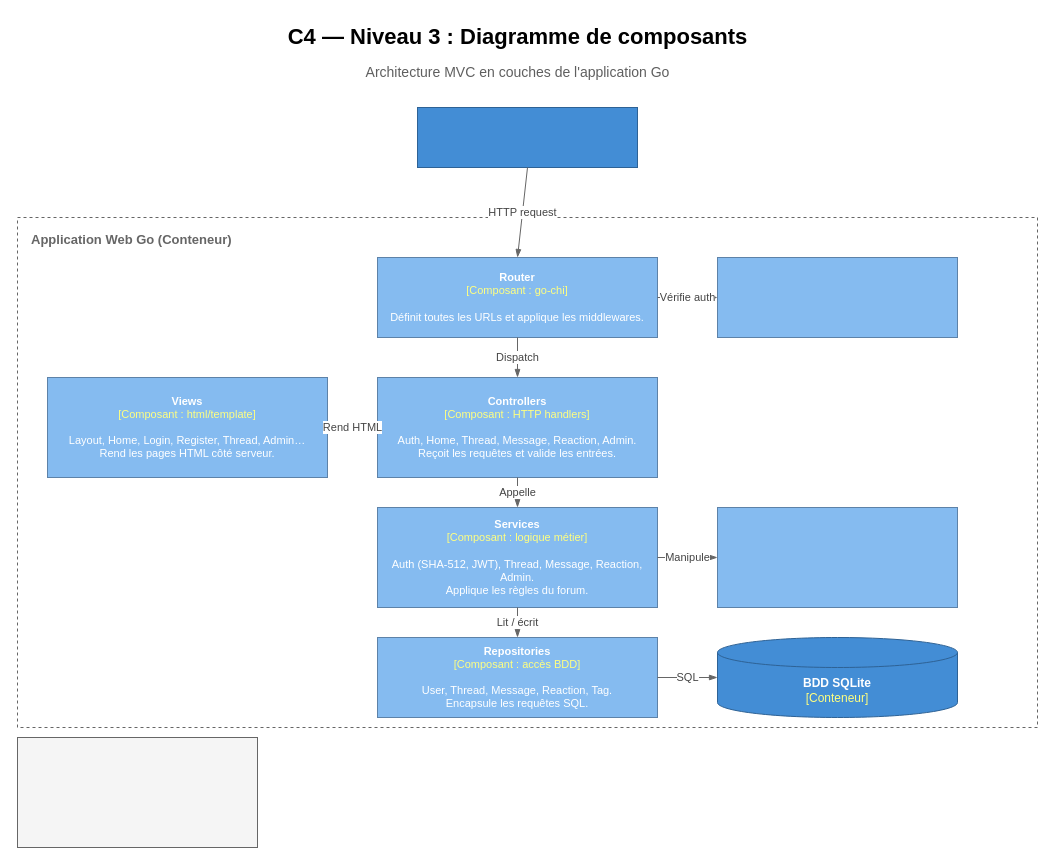
This 1055x865 diagram has some shape labels left out. Here are the shapes that lost their labels. From the top down, the box of each, then its label:
(416, 106, 638, 168): Navigateur Web [Conteneur]
(716, 256, 958, 338): Middleware JWT [Composant] Vérifie le token JWT et le rôle admin.
(716, 506, 958, 608): Models [Composant : structs Go] User, Thread, Message, Reaction, Category, Tag.
(16, 736, 258, 848): Légende ━━━━━ ■ Conteneur ■ Composant interne ━━━ Flux de données ┄┄┄ Rendu HTML
